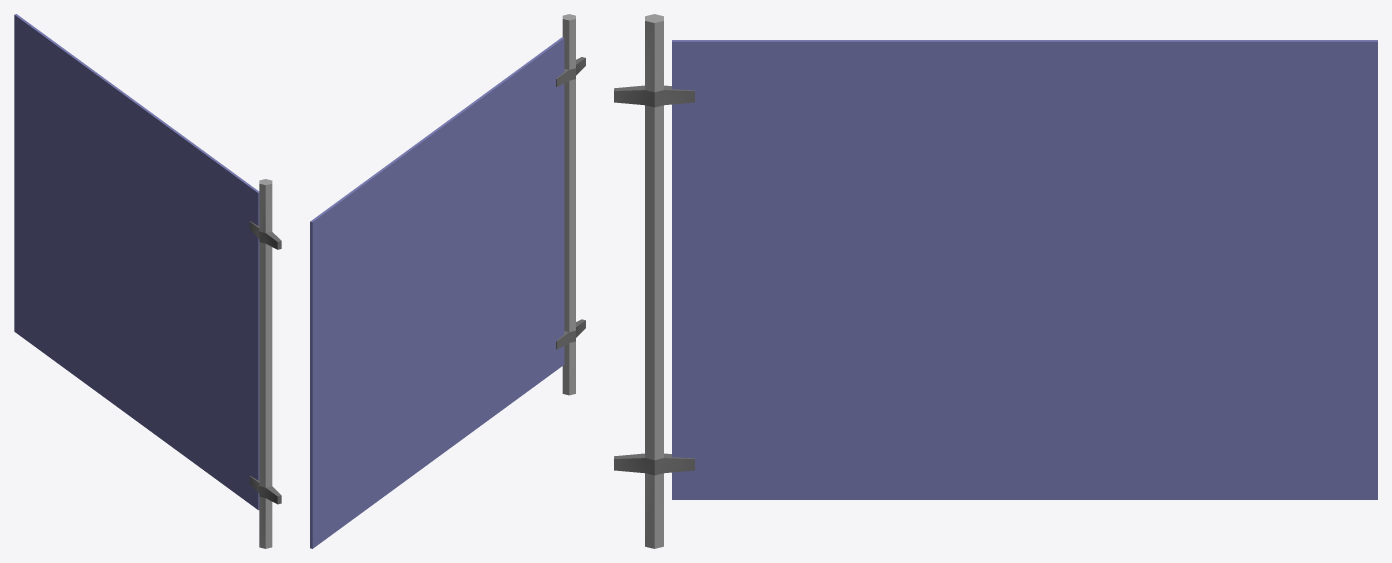
Rendered from Zabor_V2.fbx.
3 renders of one model, left to right at view 1: azimuth 30°, elevation 25°; view 2: azimuth 150°, elevation 25°; view 3: azimuth 270°, elevation 25°, orthographic. The views are drawn at different scales.
Parts seen in each view (by area): view 1: Zabor_V2; view 2: Zabor_V2; view 3: Zabor_V2.
Part boxes in pixels (x1,y1,x2,y2): Zabor_V2: (14,14,281,548); Zabor_V2: (310,14,585,548); Zabor_V2: (614,14,1377,548).
Bounding box in the file's own units: 0.2088 × 5.59 × 7.36.
